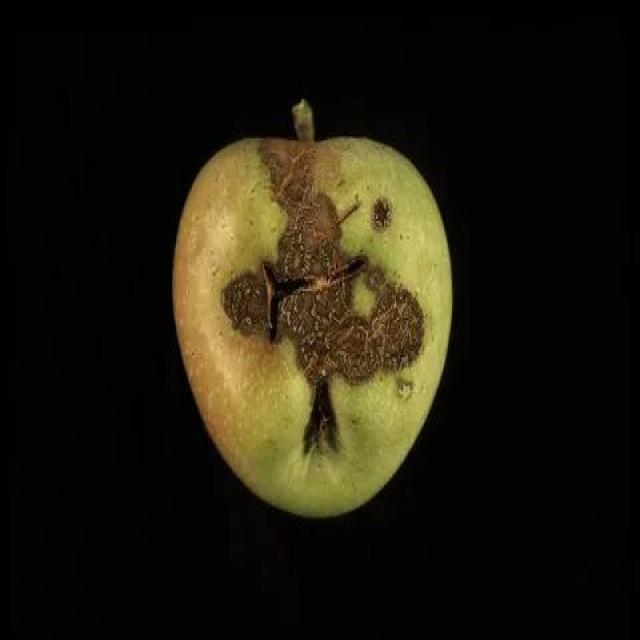Rotten: (173, 140, 460, 515)
